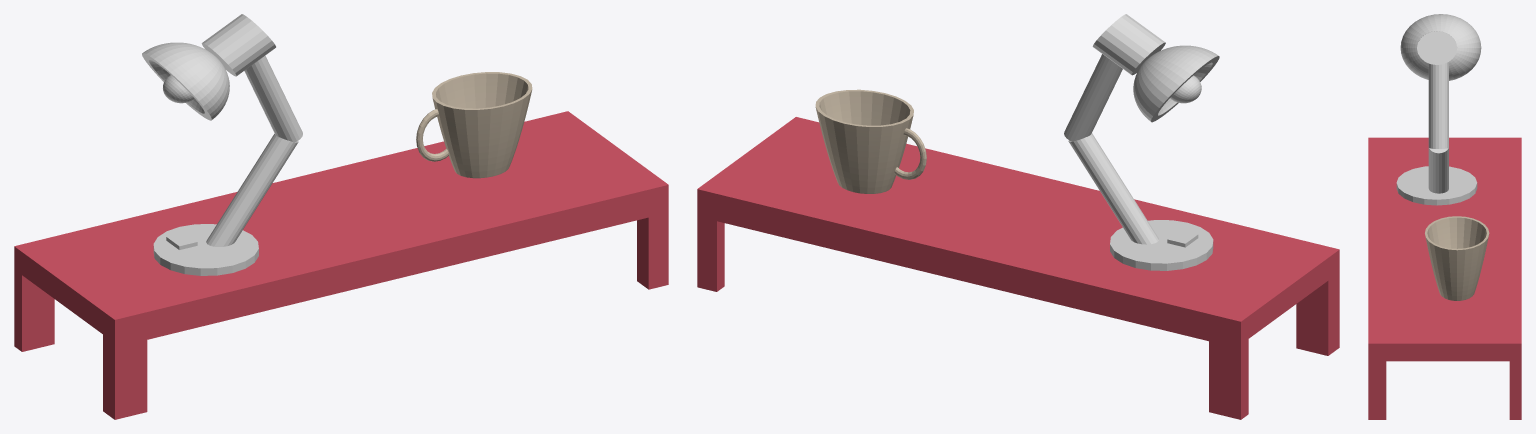
3 renders of one model, left to right at view 1: azimuth 30°, elevation 25°; view 2: azimuth 150°, elevation 25°; view 3: azimuth 270°, elevation 25°, orthographic. The views are drawn at different scales.
Parts seen in each view (by area): view 1: Mesh_Mesh_head_geo.001_lambert2SG.001; view 2: Mesh_Mesh_head_geo.001_lambert2SG.001; view 3: Mesh_Mesh_head_geo.001_lambert2SG.001.
Part boxes in pixels (bbox=[...]): Mesh_Mesh_head_geo.001_lambert2SG.001: bbox=[14, 14, 668, 419]; Mesh_Mesh_head_geo.001_lambert2SG.001: bbox=[697, 14, 1339, 419]; Mesh_Mesh_head_geo.001_lambert2SG.001: bbox=[1368, 14, 1521, 419].
Bounding box in the file's own units: 121 × 68 × 38.01.
